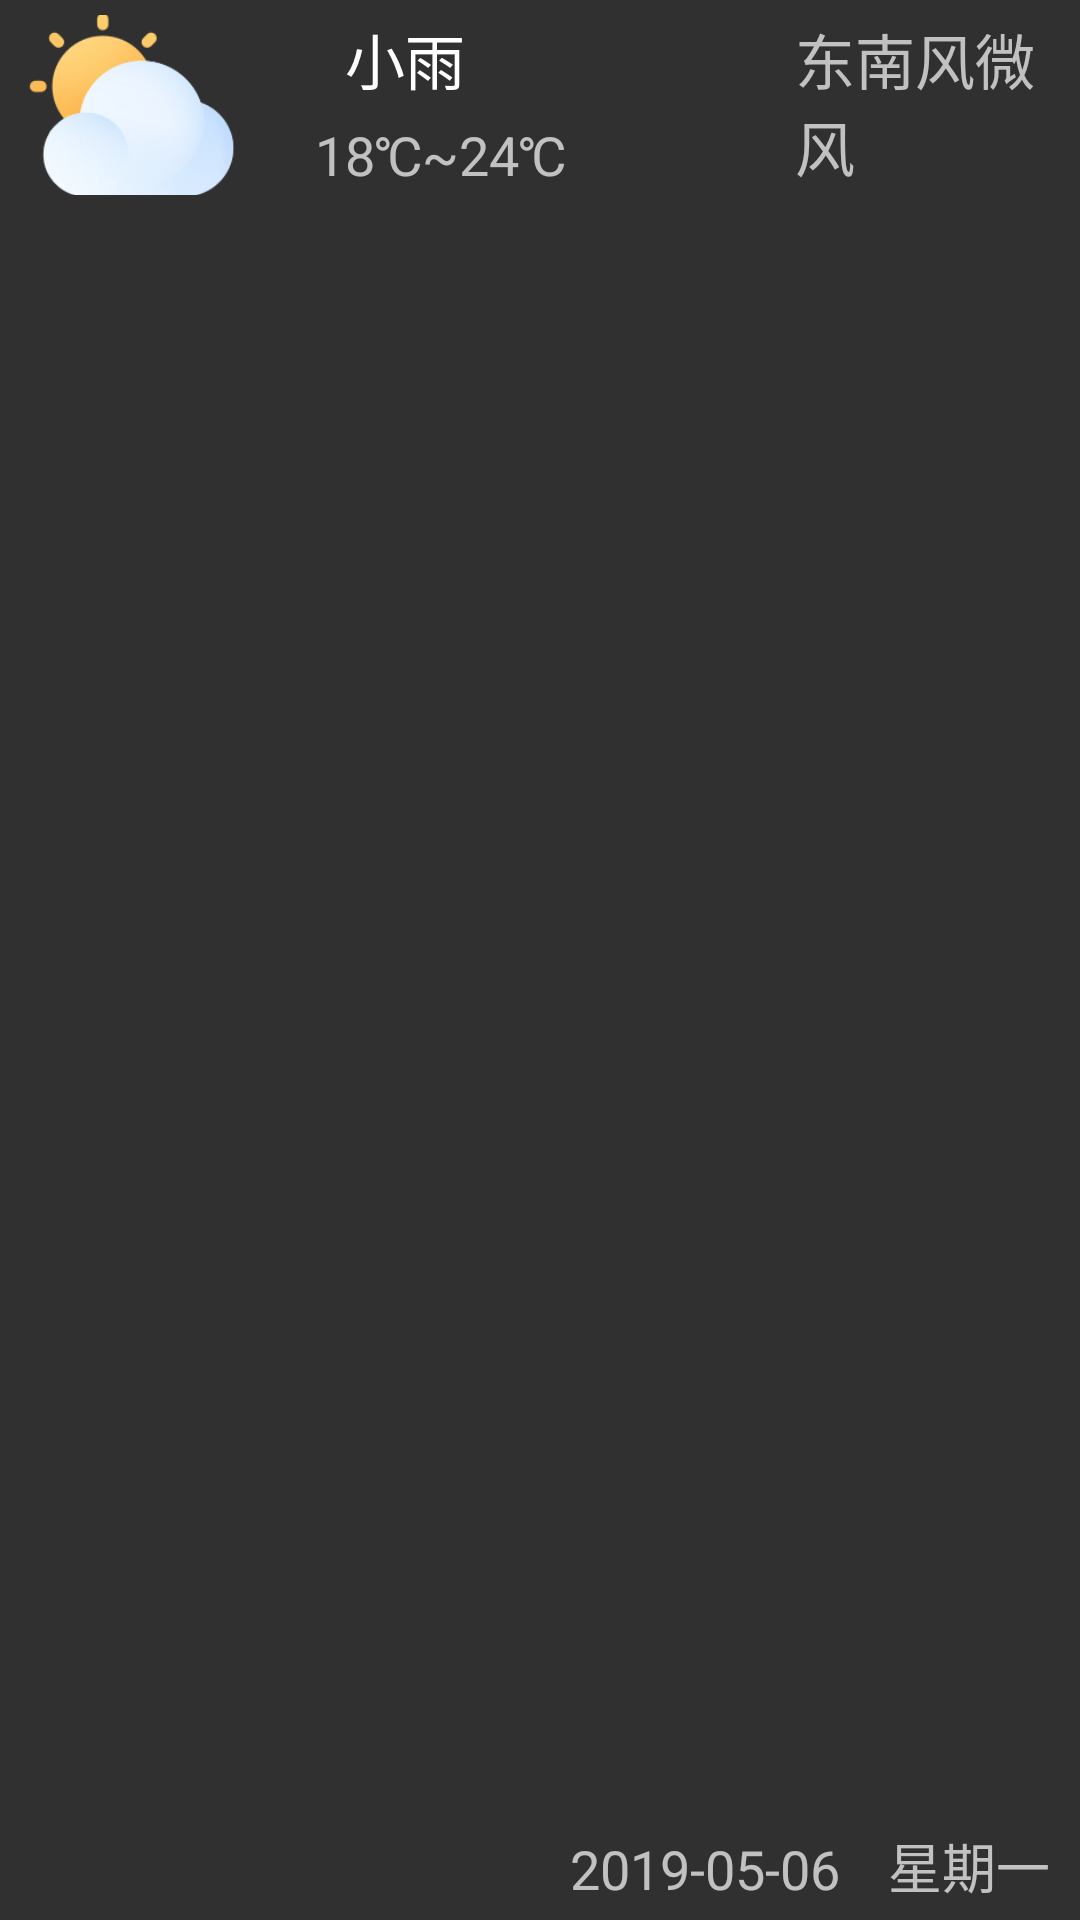

Locate icon controls on the screen. Image size 1080w x 1920h, boxes as Rect(x1, y1, x2, y2).
forecast clound: Rect(29, 15, 234, 195)
